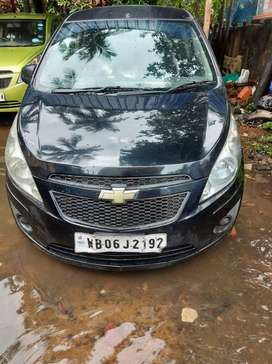WB06J2192: (73, 231, 166, 252)
